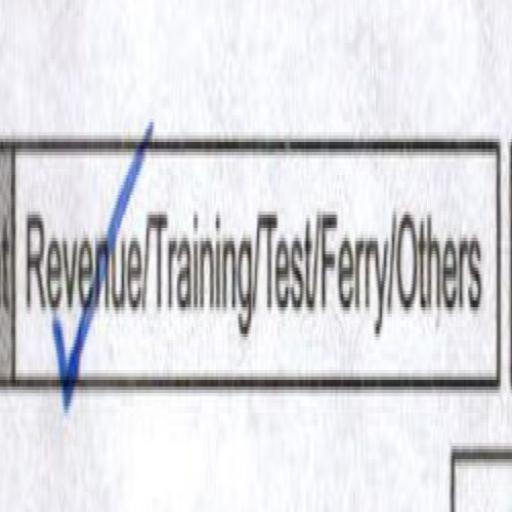check: (19, 114, 147, 434)
